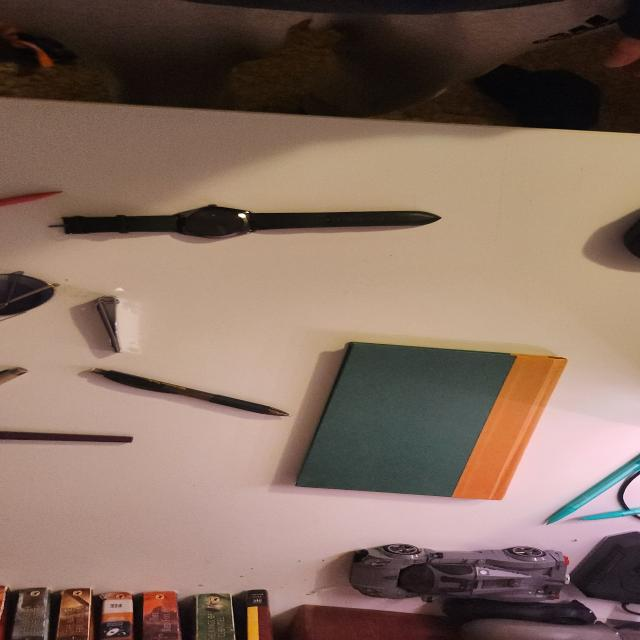Bok: (292, 341, 568, 504)
Pen: (90, 368, 291, 416)
Watch: (61, 206, 441, 243)
